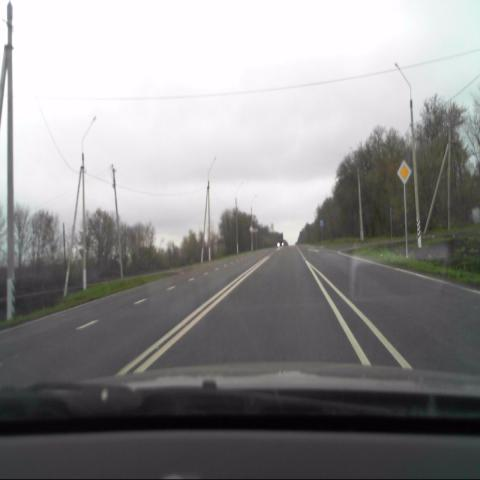2_1: (396, 160, 412, 185)
